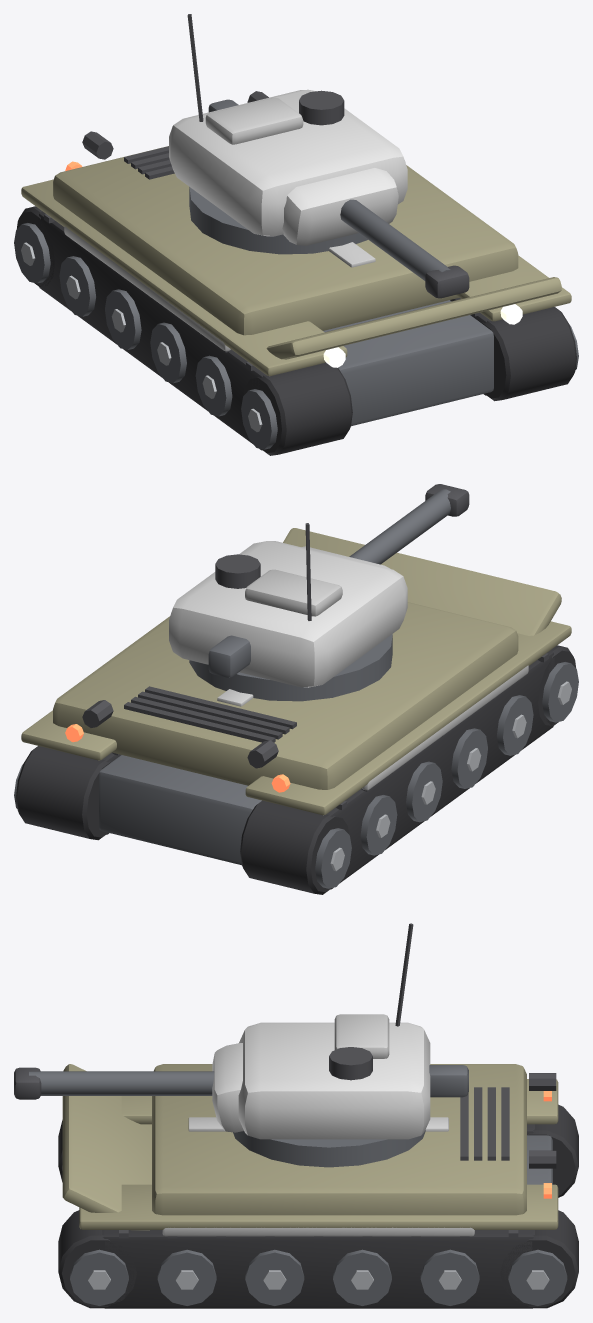
The model's file is tank_medium.glb.
3 views of the same model, one above another, from view 1: azimuth 30°, elevation 25°; view 2: azimuth 150°, elevation 25°; view 3: azimuth 270°, elevation 25° (orthographic). The views are drawn at different scales.
Visible parts, largest first — view 1: tank_medium, turret; view 2: tank_medium, turret; view 3: tank_medium, turret.
Part boxes in pixels (x1,y1,x2,y2): tank_medium: (14,91,578,455); turret: (169,14,469,298); tank_medium: (14,528,578,894); turret: (169,484,469,701); tank_medium: (58,1064,578,1308); turret: (14,923,468,1167).
Bounding box in the file's own units: 1.27 × 1.17 × 2.06.
